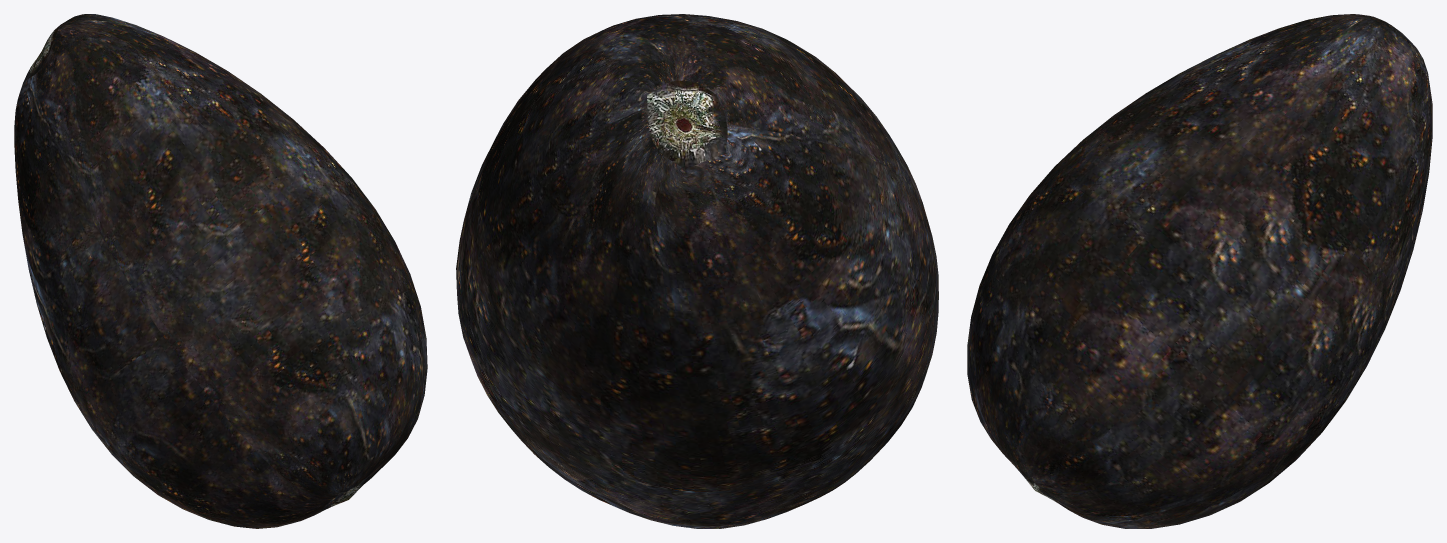
File: BlackFruitAvocado.fbx
3 views of the same model, side by side, from view 1: azimuth 30°, elevation 25°; view 2: azimuth 150°, elevation 25°; view 3: azimuth 270°, elevation 25° (orthographic). The views are drawn at different scales.
Parts seen in each view (by area): view 1: Avocado; view 2: Avocado; view 3: Avocado.
Part boxes in pixels (x1=…): Avocado: x1=14, y1=14, x2=427, y2=528; Avocado: x1=456, y1=14, x2=938, y2=528; Avocado: x1=967, y1=14, x2=1432, y2=528.
Bounding box in the file's own units: 0.0693 × 0.0834 × 0.0911.
1 material, 1 textured.
